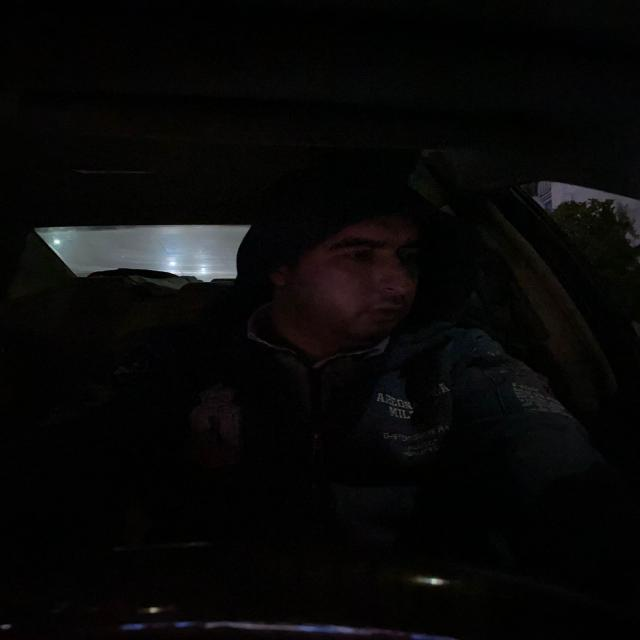person: (235, 179, 437, 356)
